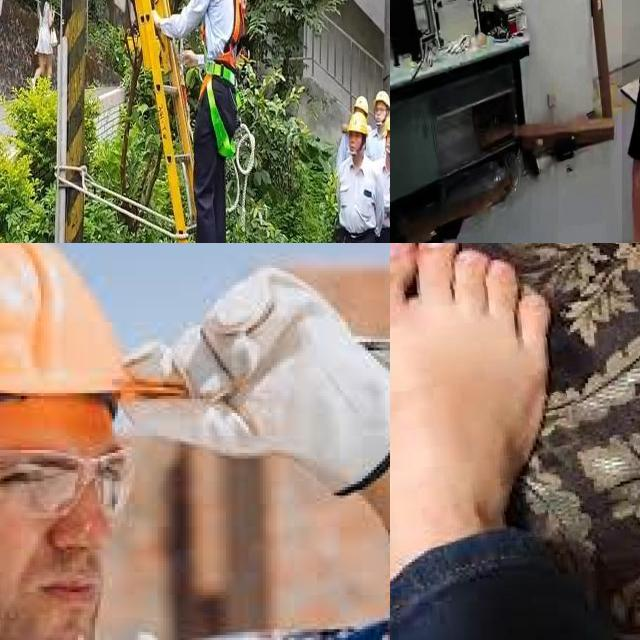Barefoots: (390, 243, 590, 552)
Harness: (190, 0, 257, 175)
face_nomask: (0, 485, 110, 640)
glasses: (0, 447, 130, 520)
hand_glove: (140, 270, 390, 494)
head_helmet: (0, 243, 121, 393)
